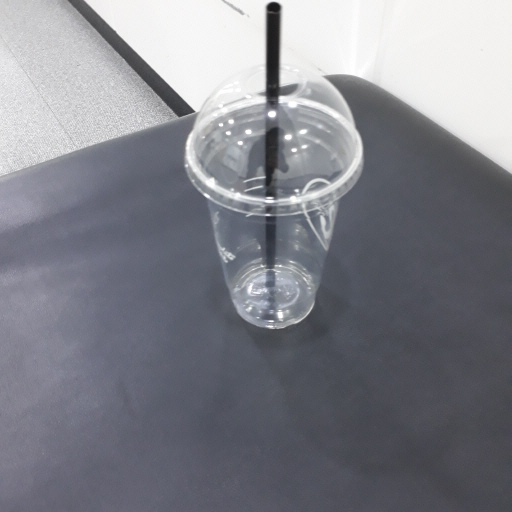Plastic_2: (186, 3, 366, 334)
